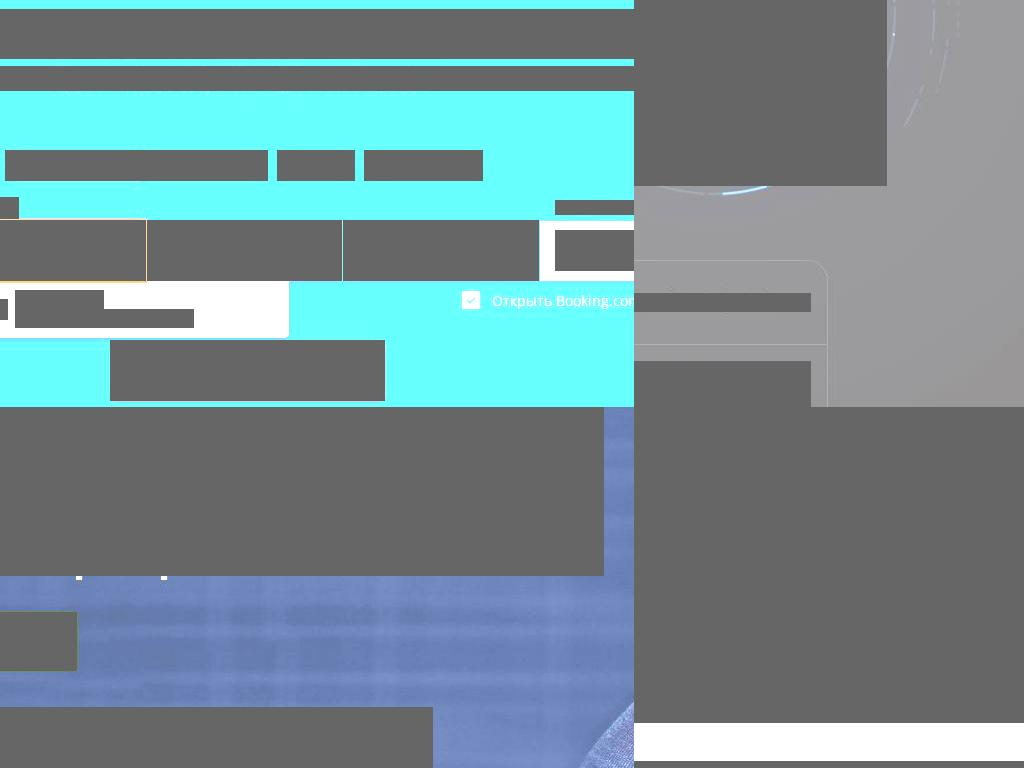button: (634, 528, 1024, 723), (110, 340, 385, 401), (0, 612, 77, 671), (5, 150, 138, 181), (138, 150, 268, 181), (364, 150, 483, 181), (634, 393, 811, 407), (277, 150, 355, 181)
field: (343, 220, 539, 281), (147, 220, 342, 281), (0, 220, 146, 281)
heading: (0, 407, 604, 576), (0, 9, 634, 59), (634, 528, 1024, 602), (770, 761, 910, 768), (667, 761, 771, 768), (955, 761, 1024, 768), (909, 761, 955, 768)
image: (634, 407, 1024, 723), (634, 0, 887, 186), (634, 0, 886, 185), (634, 0, 885, 184), (634, 0, 884, 183), (634, 0, 882, 181), (634, 0, 880, 179), (634, 0, 877, 176), (634, 0, 873, 172), (634, 0, 868, 167), (634, 0, 860, 159), (634, 293, 811, 312), (314, 353, 351, 389), (0, 299, 8, 320)
label: (461, 290, 634, 311), (0, 197, 19, 219)
link: (634, 612, 1024, 650)
text: (0, 707, 433, 768), (0, 66, 634, 91), (634, 361, 811, 393), (149, 356, 310, 383), (15, 309, 194, 328), (15, 290, 104, 310), (555, 230, 634, 251), (555, 250, 634, 271), (555, 200, 634, 215)
